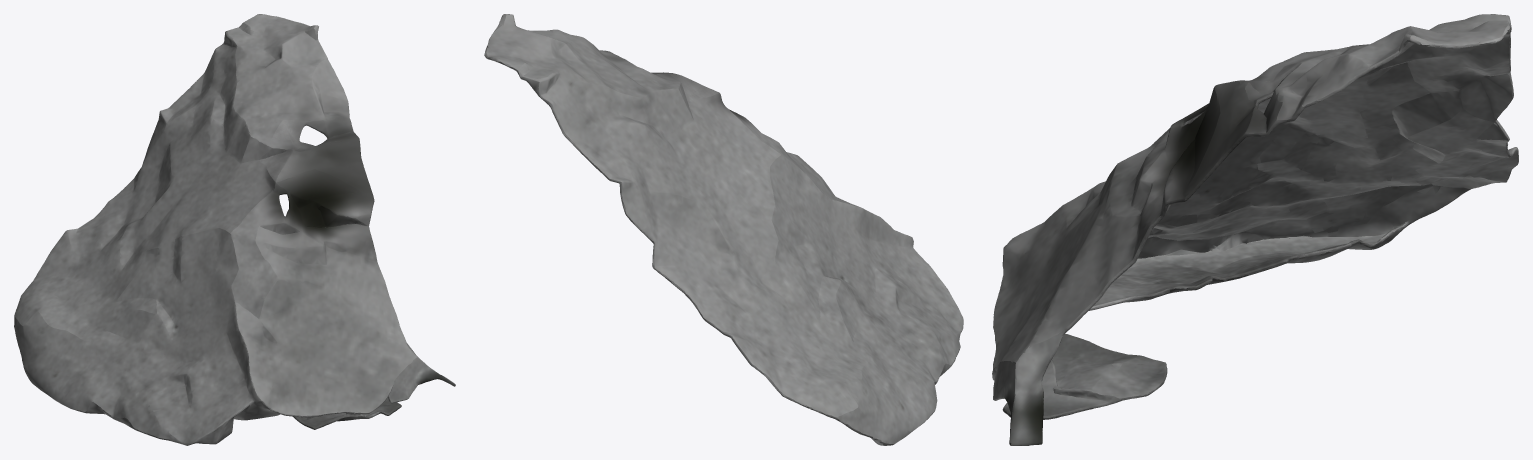
3 views of the same model, side by side, from view 1: azimuth 30°, elevation 25°; view 2: azimuth 150°, elevation 25°; view 3: azimuth 270°, elevation 25° (orthographic). The views are drawn at different scales.
Visible parts, largest first — view 1: world; view 2: world; view 3: world.
Boxes of the visible parts, x1,y1,x2,y2 form: world: [14, 14, 455, 445]; world: [484, 14, 963, 445]; world: [992, 14, 1518, 445].
Size of the model in its own units: 0.12 by 0.1048 by 0.1184.
Materials: 1 (1 with a texture image).
